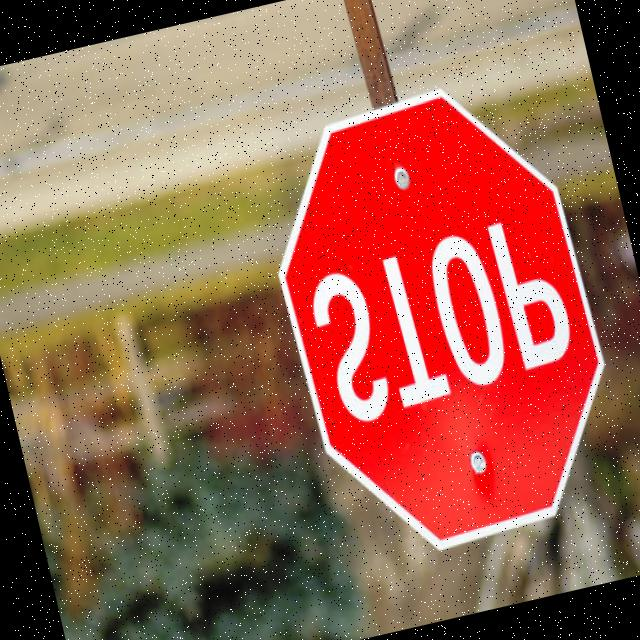stop: (235, 56, 640, 582)
